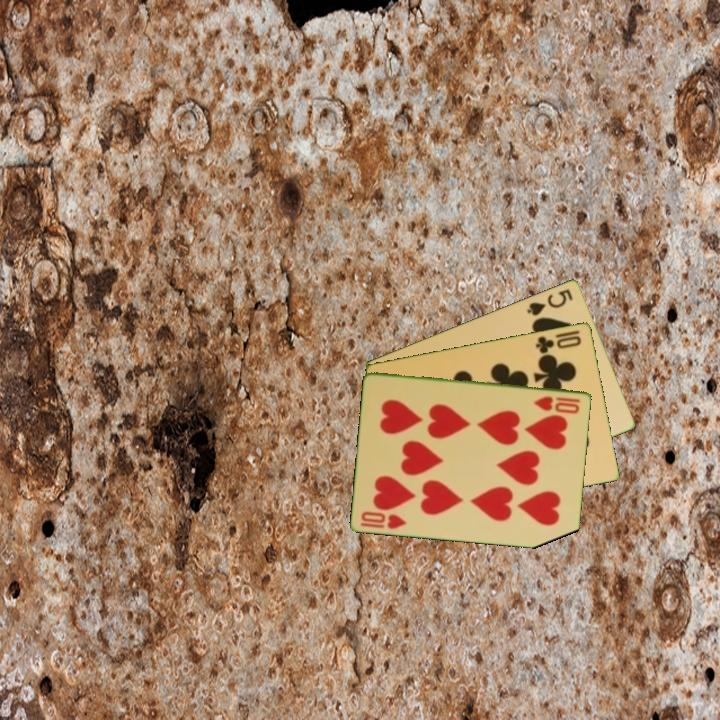10c: (532, 332, 584, 356)
10h: (357, 507, 410, 532), (531, 392, 583, 416)
5s: (523, 285, 576, 318)
